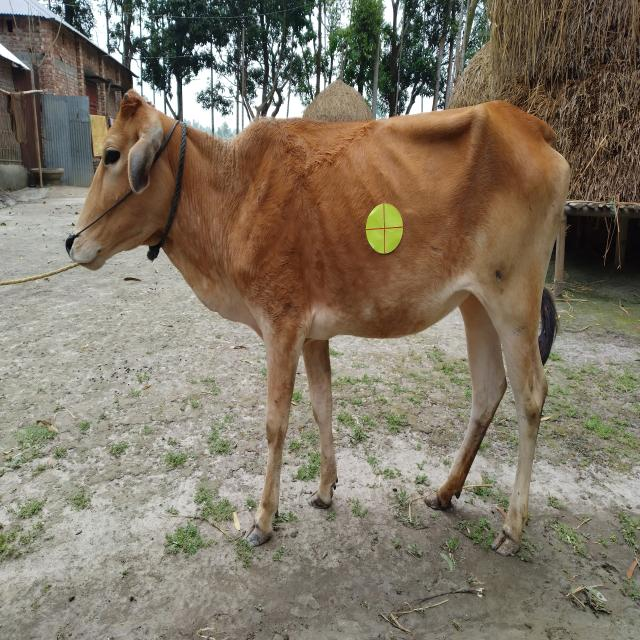badan_sapi: (240, 121, 570, 339)
sapi: (63, 80, 594, 574)
